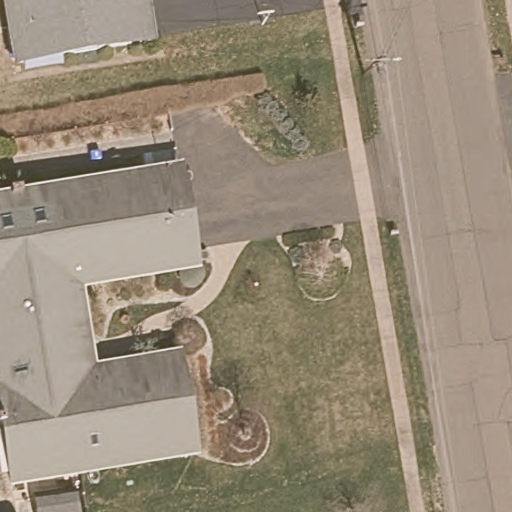DT: (360, 55, 402, 77)
